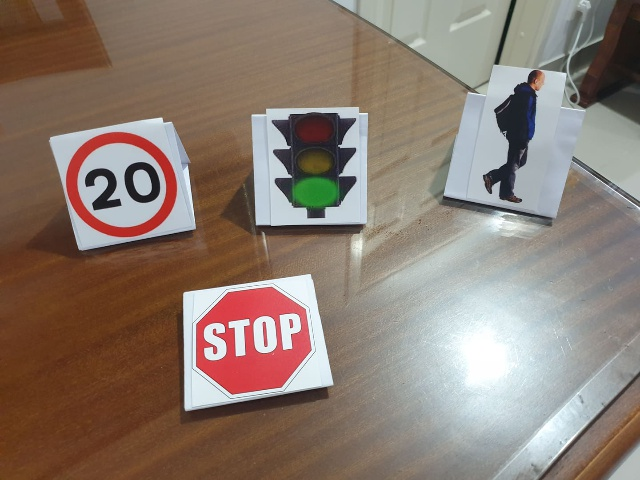Green: (271, 111, 357, 219)
Limit 20: (68, 131, 180, 229)
Person: (491, 64, 547, 211)
Stop: (194, 286, 318, 389)
